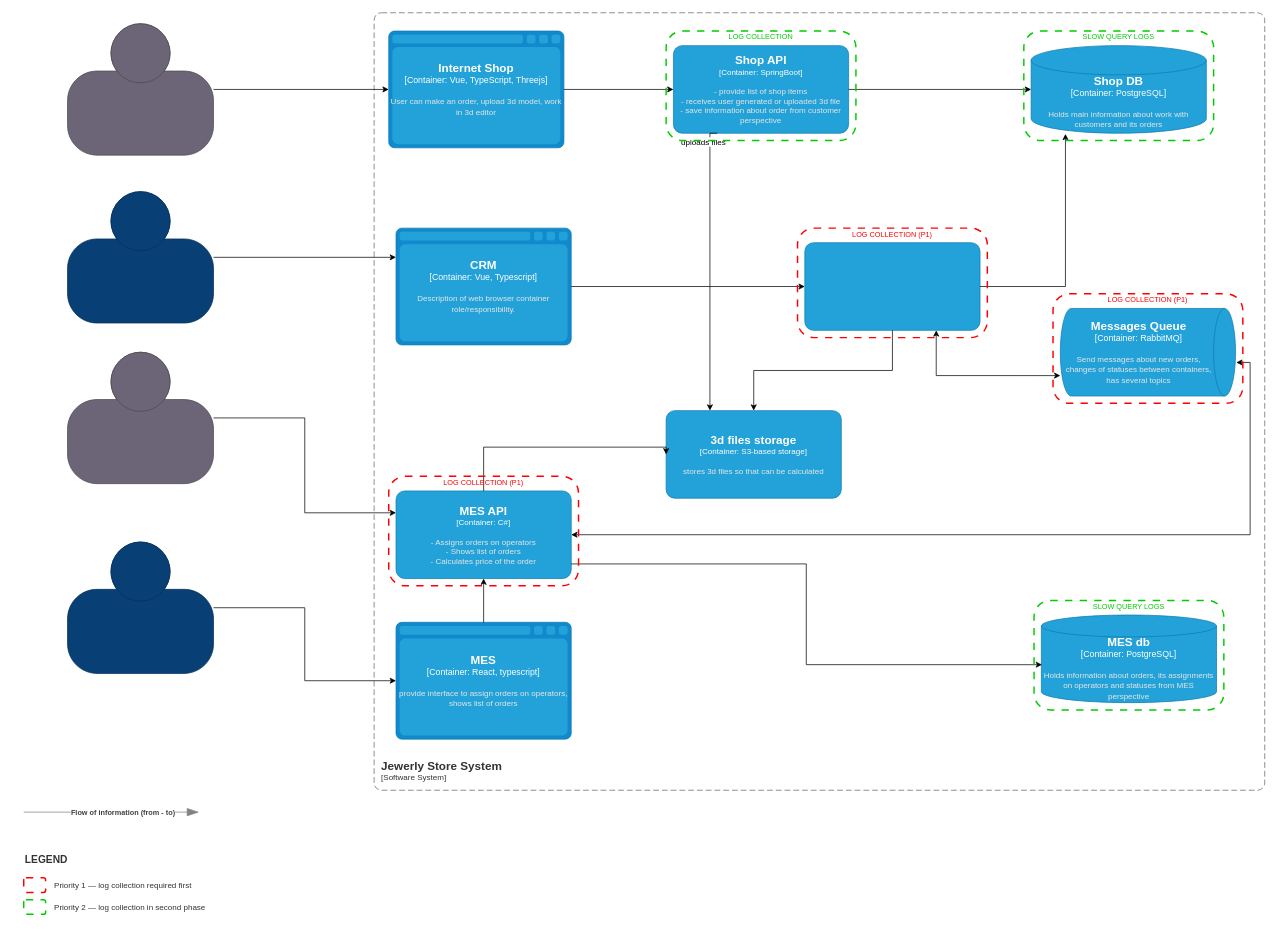
Some shapes in this 1278 by 929 pixel diagram are drawn without their labels. The centre of each missing label's shape, as x and y in pixels:
"API user [Person] Description of external person." belongs at pixel 140 417.
"CRM API [Container: SpringBoot] Description of container role/responsibility." belongs at pixel 892 286.
"Customer [Person] Description of external person." belongs at pixel 140 89.
"Operator [Person] Takes order in work, manufactures jewerly" belongs at pixel 140 607.
"Seller [Person] Operates with order, confirms manufacturing for the user" belongs at pixel 140 257.
